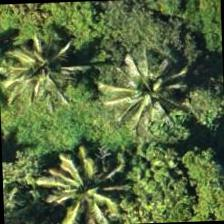Kelapa_Sawit: (100, 44, 194, 136), (0, 24, 89, 118), (54, 150, 148, 223)
